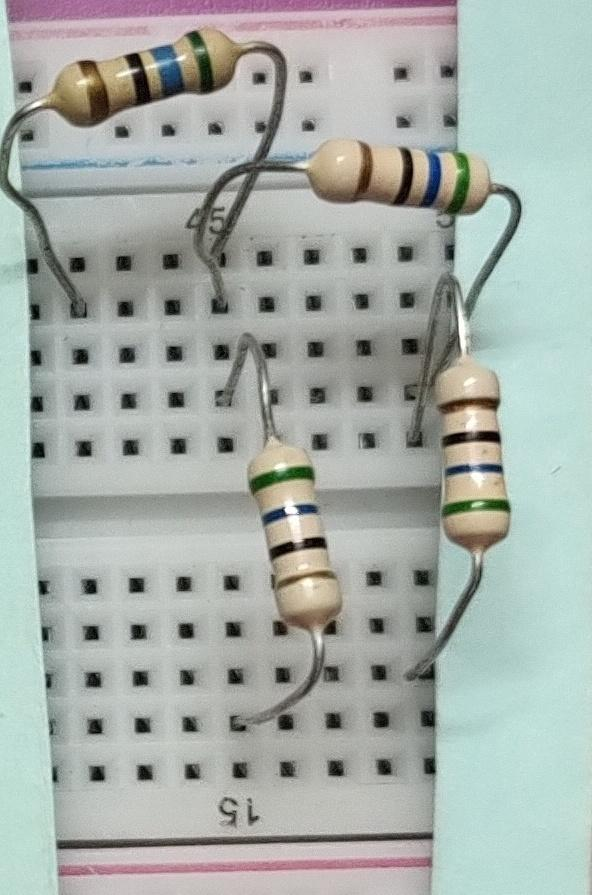resistor: (42, 6, 256, 138), (234, 422, 360, 634), (422, 347, 528, 563), (300, 125, 504, 236)
